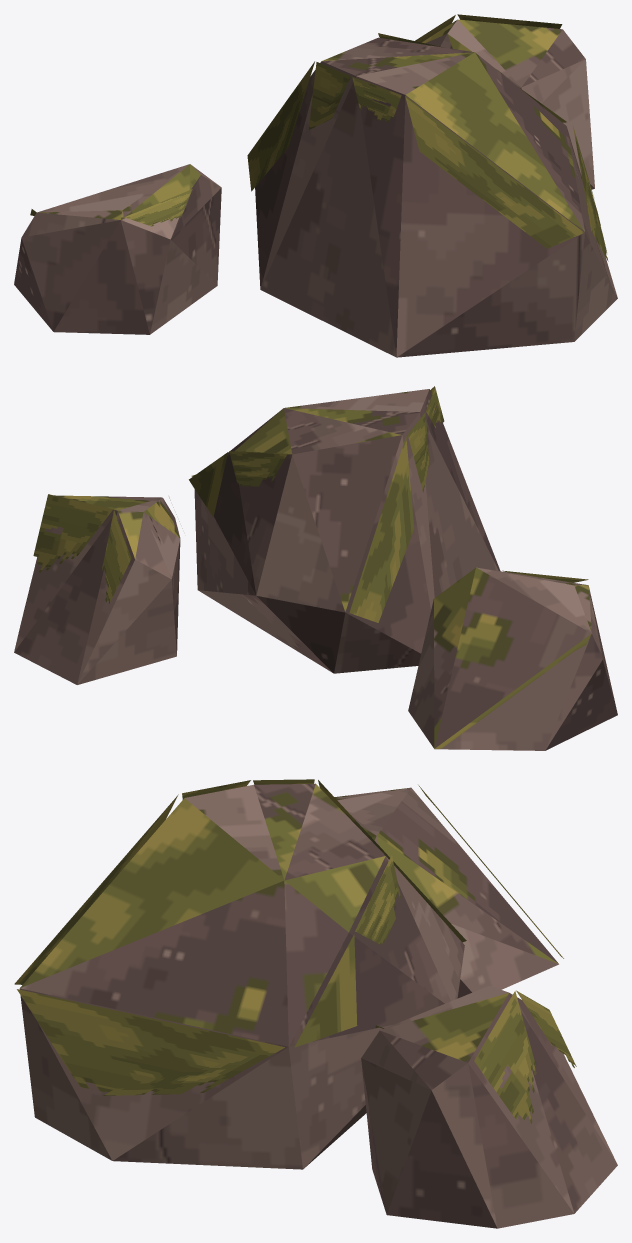
Rendered from SM_RK07_RocksLowGroup.fbx.
The picture shows the model from 3 angles, top to bottom: view 1: azimuth 30°, elevation 25°; view 2: azimuth 150°, elevation 25°; view 3: azimuth 270°, elevation 25°; orthographic projection. The views are drawn at different scales.
Visible parts, largest first — view 1: RK07_Rock, RK07_RockTop, RK07_Moss; view 2: RK07_Rock, RK07_RockTop, RK07_Moss; view 3: RK07_Rock, RK07_RockTop, RK07_Moss.
Boxes of the visible parts, x1,y1,x2,y2 form: RK07_Rock: [14, 34, 617, 357]; RK07_RockTop: [39, 19, 585, 231]; RK07_Moss: [30, 14, 608, 261]; RK07_Rock: [14, 389, 617, 750]; RK07_RockTop: [54, 389, 591, 748]; RK07_Moss: [33, 386, 591, 748]; RK07_Rock: [19, 787, 617, 1228]; RK07_RockTop: [20, 783, 558, 1089]; RK07_Moss: [14, 779, 576, 1123].
Size of the model in its own units: 1.7 by 0.6346 by 1.31.
